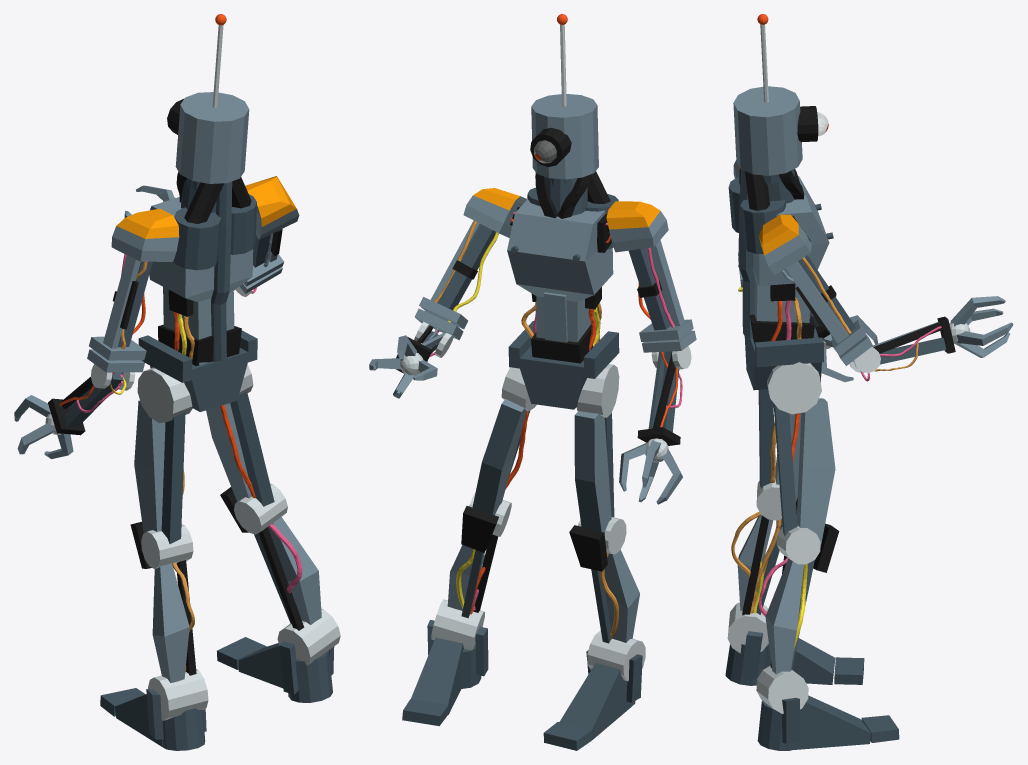
File: giant_robot.glb
3 renders of one model, left to right at view 1: azimuth 30°, elevation 25°; view 2: azimuth 150°, elevation 25°; view 3: azimuth 270°, elevation 25°, orthographic. The views are drawn at different scales.
Visible parts, largest first — view 1: group1045724359, group1981451505, group800109623, group418244651, group1698895145, group1685490749, group1355666427, group1712638995, group1454435720, group1085786820, group762755994, group1239918771 (+24 smaller); view 2: group1981451505, group800109623, group1045724359, group1698895145, group1876178585, group8333790, group1355666427, group1862691906, group1685490749, group418244651, group1472647710, group1551897053 (+32 smaller); view 3: group1045724359, group1876178585, group1981451505, group1085786820, group1862691906, group359783715, group800109623, group1976497209, group1472647710, group1205431263, group1551897053, group1712638995 (+25 smaller).
Part boxes in pixels (<box>): group1045724359: <box>175,92,249,183</box>; group1981451505: <box>149,197,253,365</box>; group800109623: <box>138,330,257,411</box>; group418244651: <box>152,563,189,682</box>; group1698895145: <box>134,400,165,532</box>; group1685490749: <box>111,208,179,261</box>; group1355666427: <box>48,364,135,435</box>; group1712638995: <box>211,181,232,361</box>; group1454435720: <box>161,412,185,543</box>; group1085786820: <box>268,517,321,624</box>; group762755994: <box>173,207,221,270</box>; group1239918771: <box>137,367,192,422</box>; group1981451505: <box>507,199,613,342</box>; group800109623: <box>508,321,619,409</box>; group1045724359: <box>531,94,598,179</box>; group1698895145: <box>574,411,611,533</box>; group1876178585: <box>472,399,526,515</box>; group8333790: <box>559,663,631,739</box>; group1355666427: <box>637,346,691,445</box>; group1862691906: <box>411,637,463,714</box>; group1685490749: <box>606,201,668,252</box>; group418244651: <box>604,550,639,642</box>; group1472647710: <box>463,188,526,237</box>; group1551897053: <box>431,599,484,650</box>; group1045724359: <box>733,86,802,175</box>; group1876178585: <box>797,398,835,544</box>; group1981451505: <box>753,176,829,322</box>; group1085786820: <box>765,558,804,674</box>; group1862691906: <box>786,695,870,750</box>; group359783715: <box>849,316,955,381</box>; group800109623: <box>742,312,823,390</box>; group1976497209: <box>767,362,821,414</box>; group1472647710: <box>759,214,811,275</box>; group1205431263: <box>773,403,797,535</box>; group1551897053: <box>756,665,808,713</box>; group1712638995: <box>738,169,754,338</box>.
Size of the model in its own units: 2.59 by 6.16 by 2.34.
